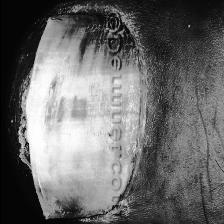Toxin: (20, 2, 106, 224), (119, 11, 148, 216)
